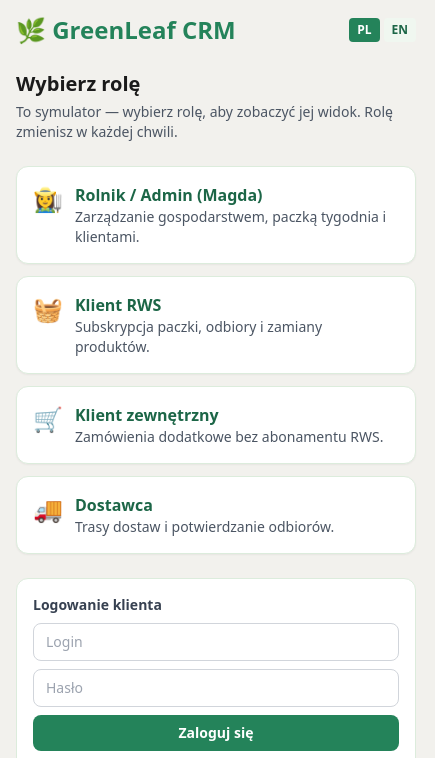
i18n: przełączanie języka PL/EN › po kliknięciu EN ten sam nagłówek pokazuje string z en.json
Check: the heading "Wybierz rolę" is shown, box left=16, top=70, right=140, bottom=97
Click the button "en": x=400, y=30 left=384, top=18, right=416, bottom=42
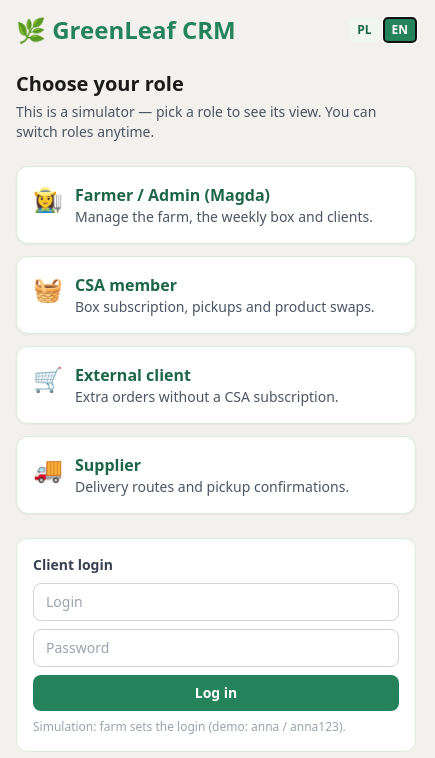
Check: the heading "Choose your role" is shown, box left=16, top=70, right=184, bottom=97
Check: the heading "Wybierz rolę" is gone
